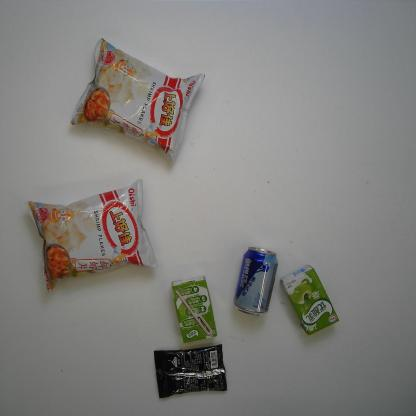Alcohol: (231, 244, 281, 317)
Instant Drink: (152, 343, 229, 400)
Milk: (279, 264, 342, 336), (170, 274, 221, 346)
Puffed Food: (72, 35, 207, 166), (20, 175, 160, 295)
